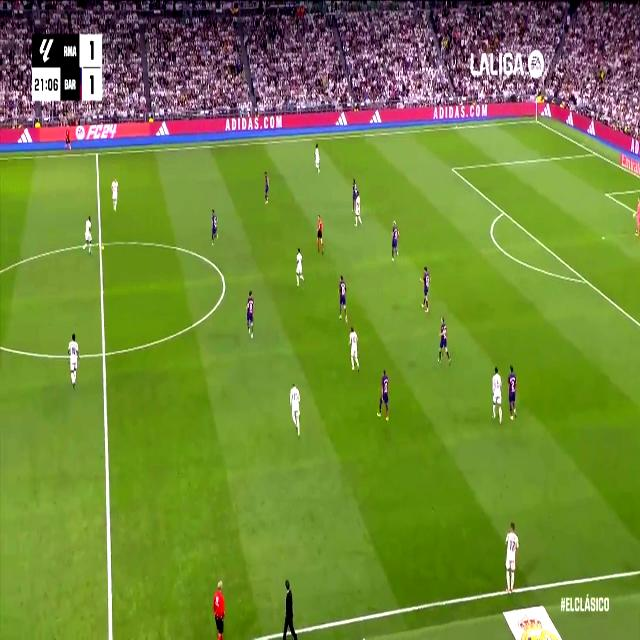bigarea_top_inner: (449, 161, 455, 175)
bigarea_top_outter: (591, 146, 598, 158)
bottom_arc_area_intersection: (581, 272, 590, 288)
corner: (532, 113, 540, 125)
halfcircle_bottom: (98, 339, 110, 367)
halfcircle_top: (94, 232, 106, 254)
midline_top_intersection: (94, 147, 100, 160)
smallarea_top_inner: (604, 188, 610, 199)
top_arc_area_intersection: (500, 204, 507, 218)
